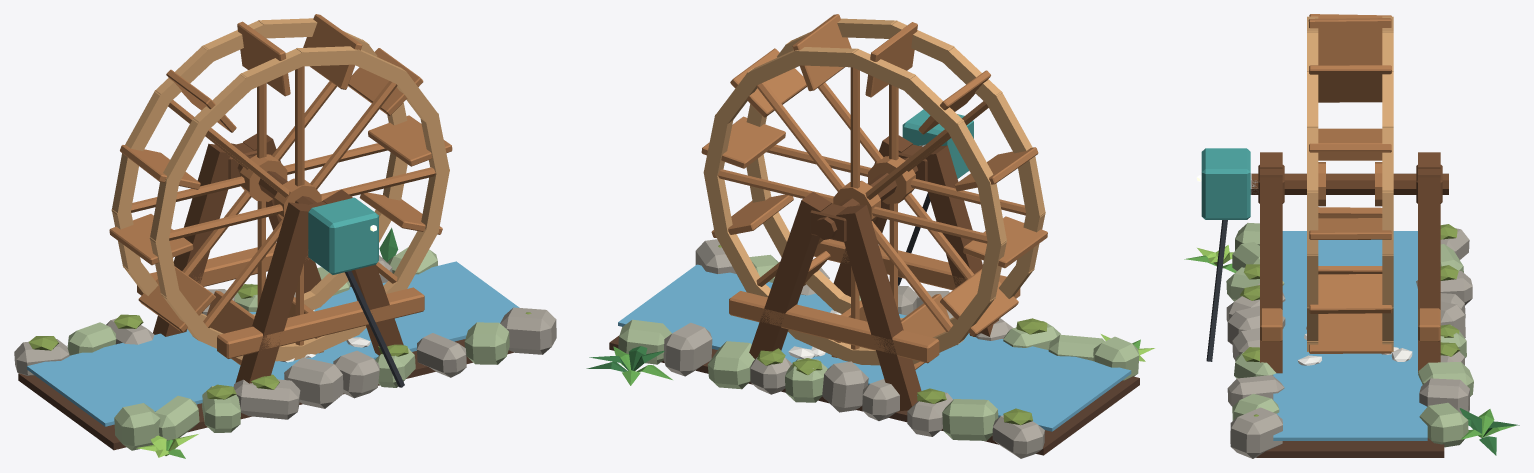
The model's file is water_wheel.glb.
The picture shows the model from 3 angles, left to right: view 1: azimuth 30°, elevation 25°; view 2: azimuth 150°, elevation 25°; view 3: azimuth 270°, elevation 25°; orthographic projection. The views are drawn at different scales.
Visible parts, largest first — view 1: Water Wheel; view 2: Water Wheel; view 3: Water Wheel.
Boxes of the visible parts, x1,y1,x2,y2 form: Water Wheel: (14,14,556,458); Water Wheel: (586,14,1154,458); Water Wheel: (1184,14,1519,458).
Bounding box in the file's own units: 2.66 × 1.92 × 1.79.
Materials: 2 (1 with a texture image).
